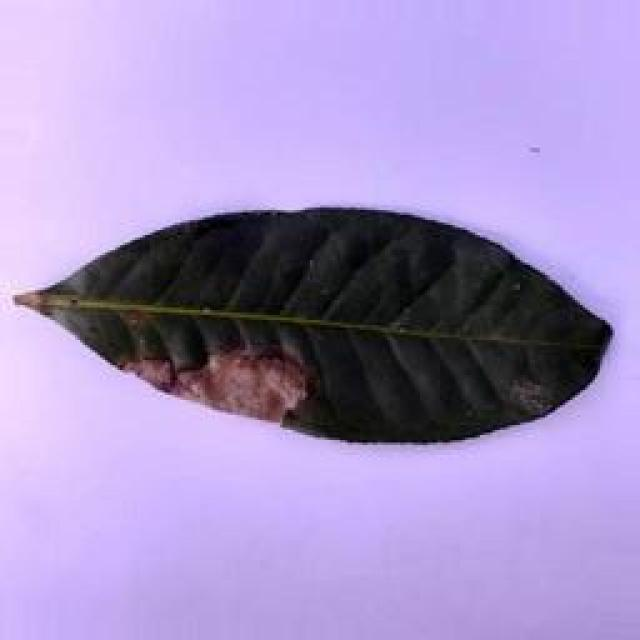Gray Blight: (8, 200, 618, 459)
